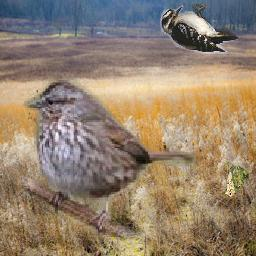Sparrow: (22, 75, 198, 238), (223, 163, 249, 198)
Woodpecker: (157, 4, 240, 56)
